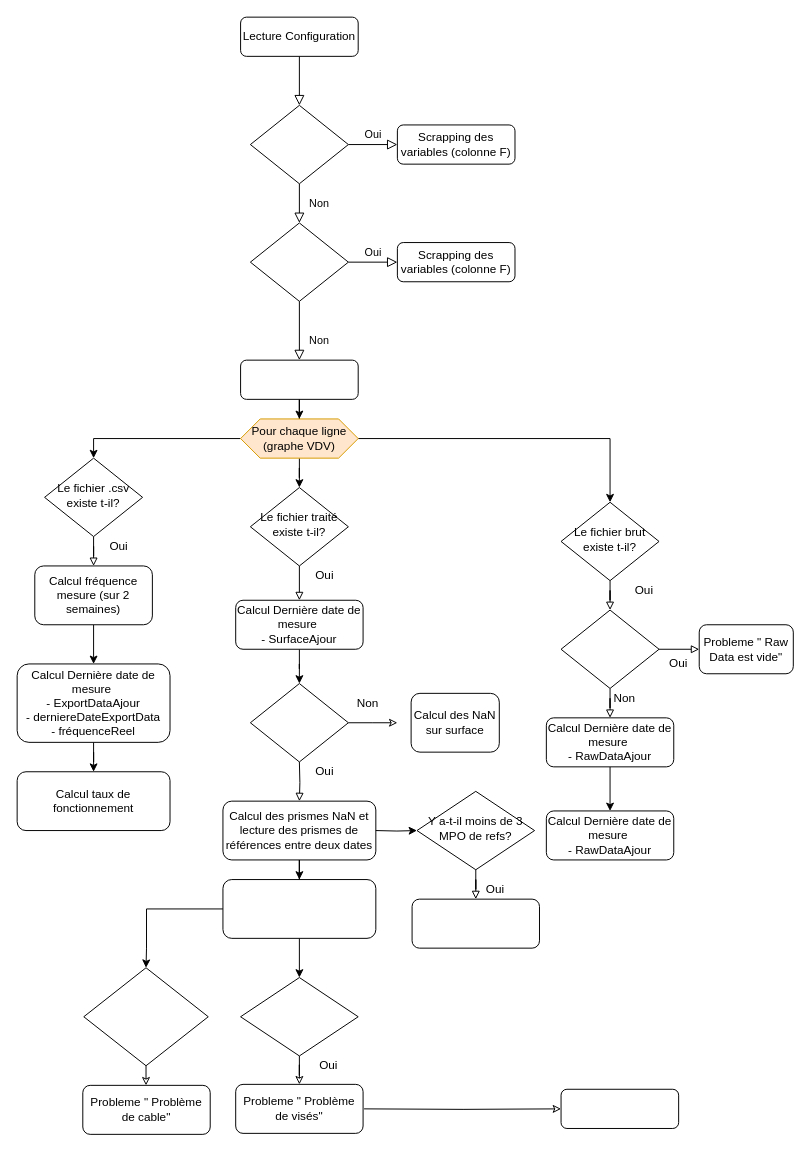
Some shapes in this 810 by 1152 pixel diagram are drawn without their labels. Each missing label, with the centre of its shape:
Calcul des dates de début et fin: pixel 299 379
Calcul du taux de visées: pixel 299 908
Dans rawData, y a t-il des problèmes de cable ? (code -99997): pixel 145 1016
Dans rawData, y a t-il des problèmes de visés? (code -99995 et -99999): pixel 299 1016
Des lignes modifiées ou ajoutées ?: pixel 298 261
Ecriture dans fichier Excel: pixel 619 1108
Est-ce le premier Traitement ?: pixel 298 144
Le fichier est-vide ?: pixel 609 648
Probleme " Problème de références": pixel 475 923
Y a-t-il des stations?: pixel 298 722
